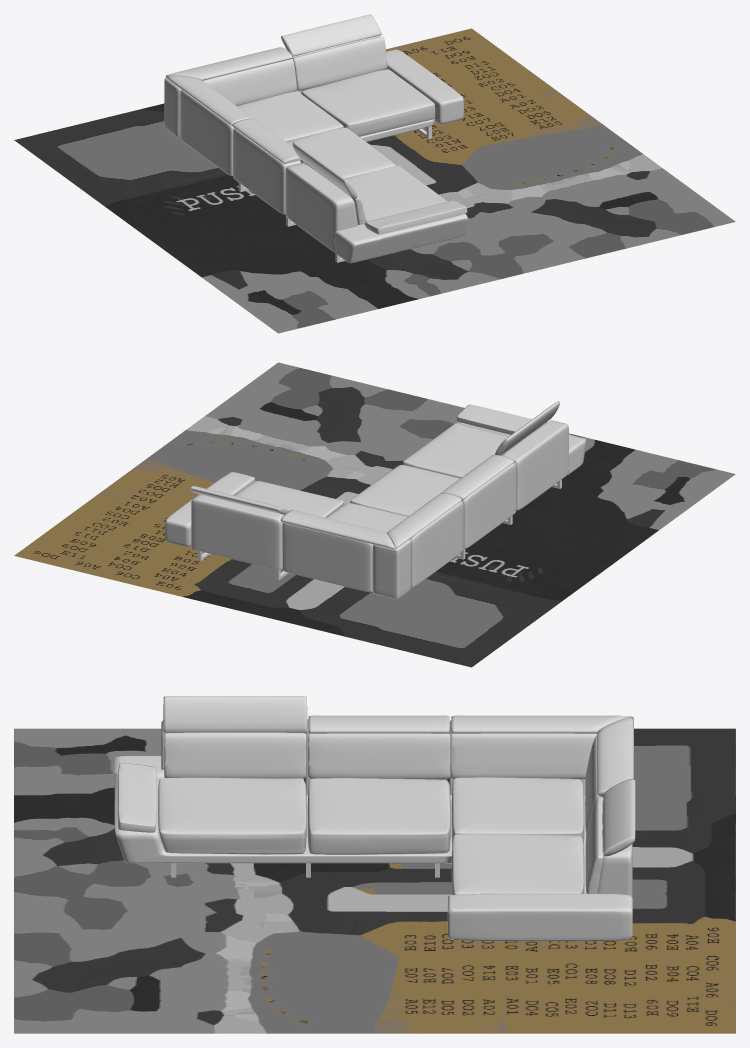
3 renders of one model, top to bottom at view 1: azimuth 30°, elevation 25°; view 2: azimuth 150°, elevation 25°; view 3: azimuth 270°, elevation 25°, orthographic. The views are drawn at different scales.
Parts seen in each view (by area): view 1: pPlane2, Frame_low1; view 2: pPlane2, Frame_low1; view 3: pPlane2, Frame_low1.
Boxes of the visible parts, x1=… form: pPlane2: x1=14, y1=28, x2=735, y2=333; Frame_low1: x1=164, y1=14, x2=468, y2=263; pPlane2: x1=14, y1=362, x2=735, y2=667; Frame_low1: x1=165, y1=401, x2=586, y2=599; pPlane2: x1=14, y1=728, x2=735, y2=1033; Frame_low1: x1=114, y1=696, x2=635, y2=941.
Size of the model in its own units: 6.16 by 1.07 by 6.16.
